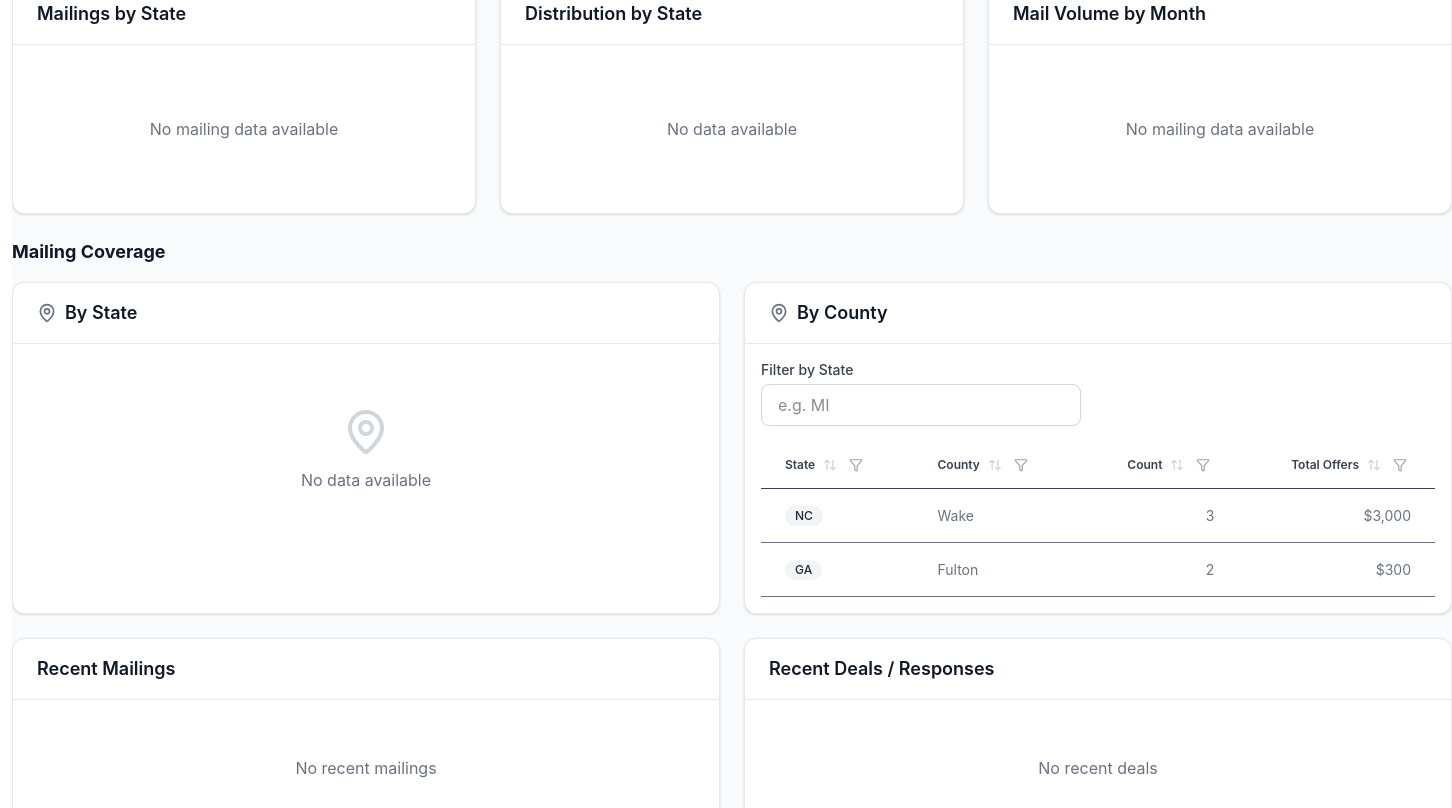
Scenario: Dashboard → Mailing Coverage → By County › shows the no-data message and a hint to clear the filter when no county matches
This screenshot has width=1452, height=808.
(page scrolled)
expect the text "Fulton" is shown: met, box [914,542,1080,596]
Type "TX" into the field with placeholder "e.g. MI" at (921, 405), box [761,384,1081,426]
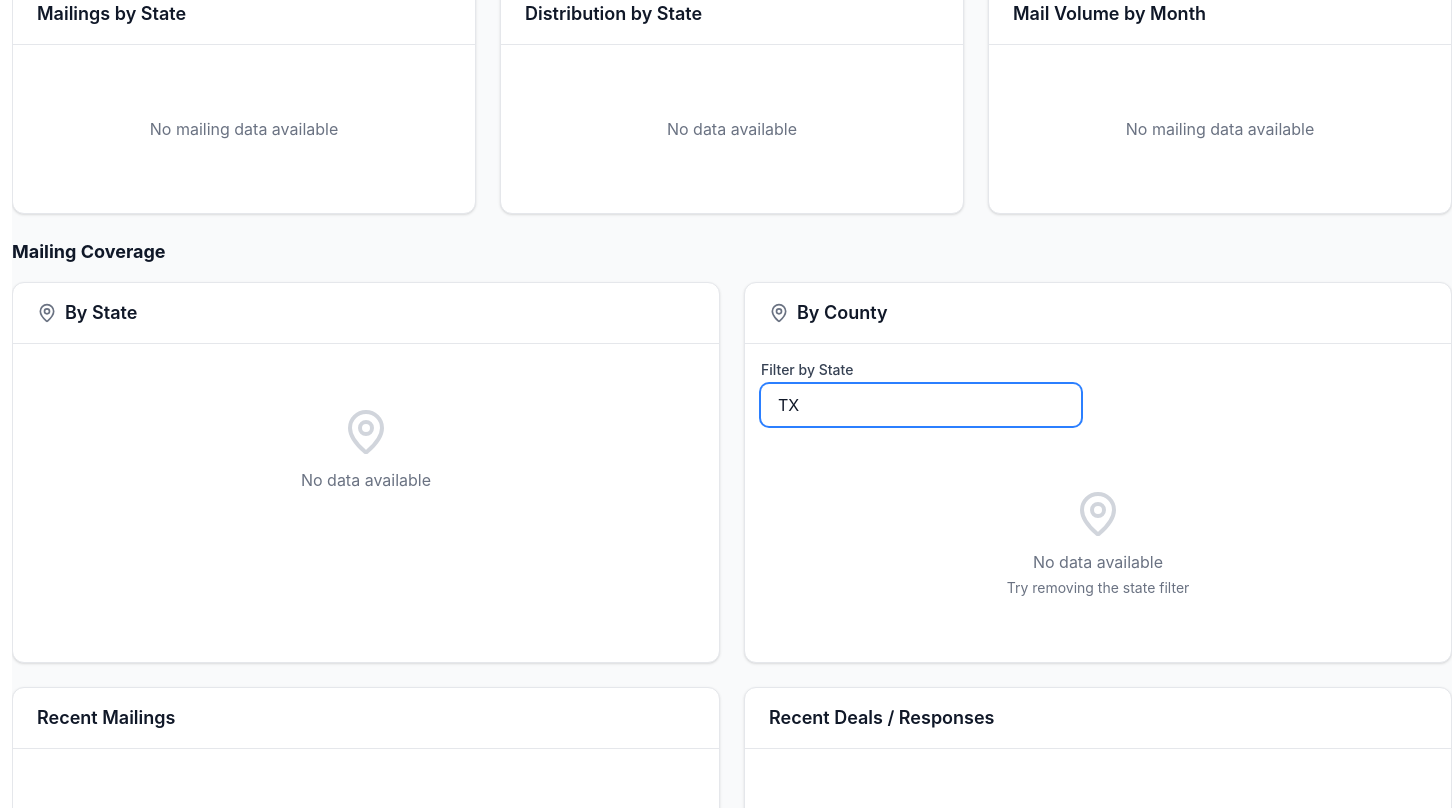
expect the text "No data available" below "Filter by State" is shown: met, box [1033,552,1163,572]
expect the text "Try removing the state filter" is shown: met, box [1007,579,1189,596]
expect the text "Wake" is gone: met
